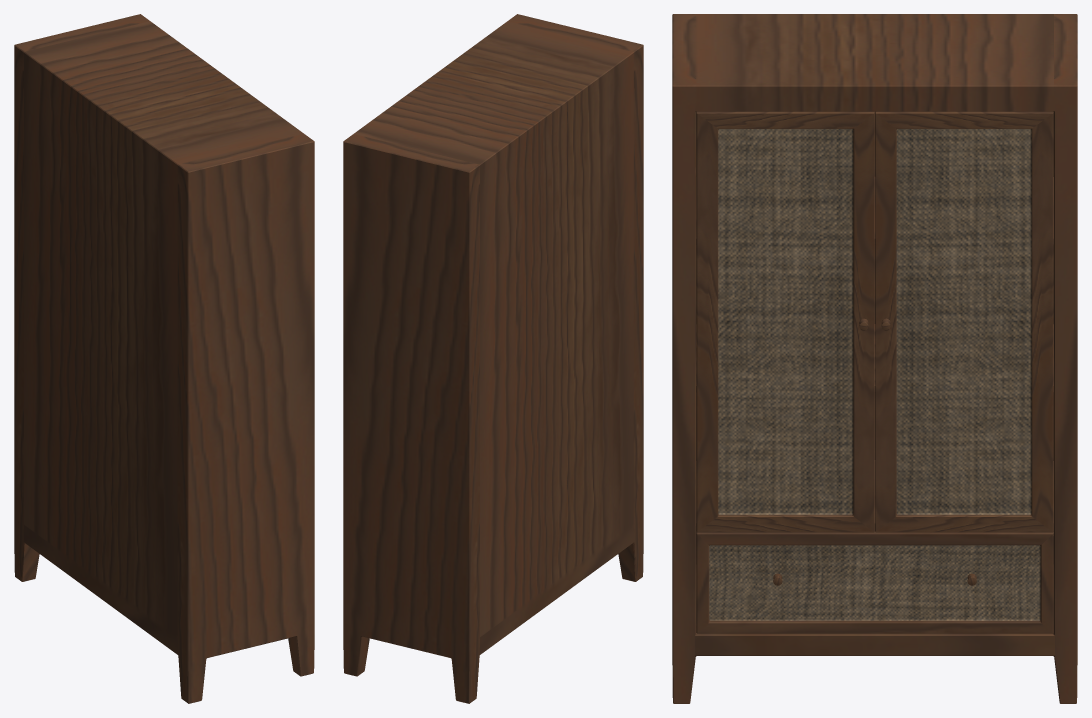
Rendered from wardrobe2.obj.
The picture shows the model from 3 angles, left to right: view 1: azimuth 30°, elevation 25°; view 2: azimuth 150°, elevation 25°; view 3: azimuth 270°, elevation 25°; orthographic projection. The views are drawn at different scales.
Visible parts, largest first — view 1: Cube.038; view 2: Cube.038; view 3: Cube.038.
Boxes of the visible parts, x1,y1,x2,y2 form: Cube.038: [14, 14, 314, 703]; Cube.038: [343, 14, 643, 703]; Cube.038: [672, 14, 1077, 703].
Size of the model in its own units: 0.52 by 1.97 by 1.17.
